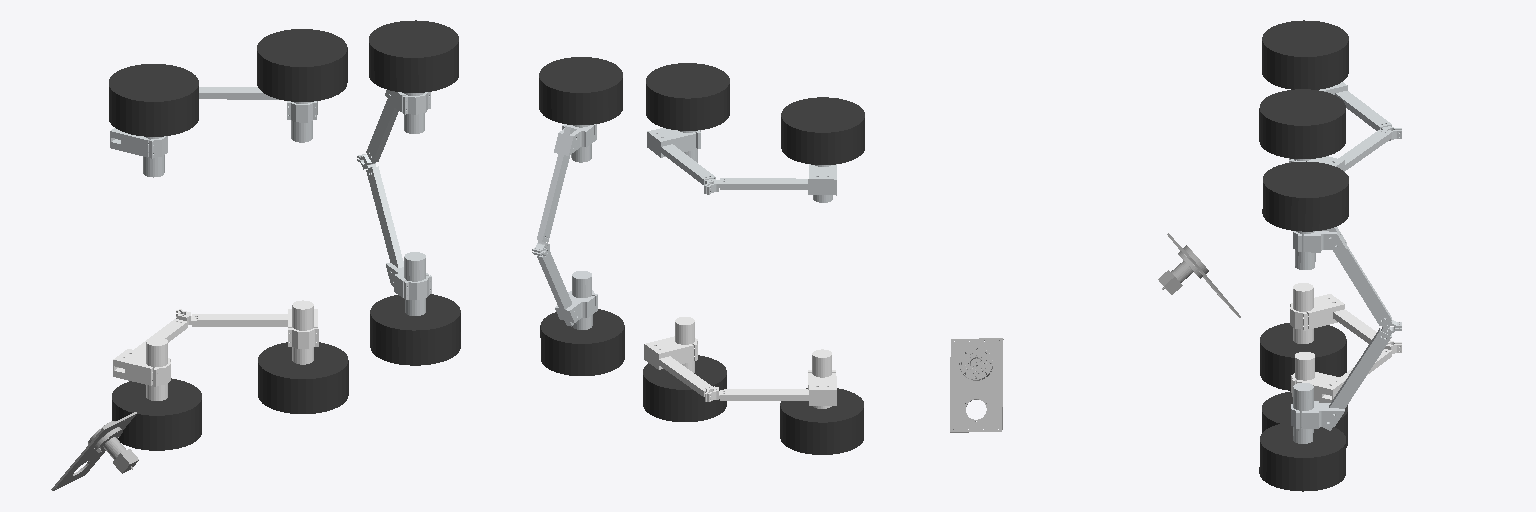
robot.urdf — rover_chassis_1:
<?xml version="1.0" encoding="utf-8"?>
<!-- This URDF was automatically created by SolidWorks to URDF Exporter! Originally created by [author] ([email redacted]) 
     Commit Version: 1.6.0-4-g7f85cfe  Build Version: 1.6.7995.38578
     For more information, please see http://wiki.ros.org/sw_urdf_exporter -->
<robot
  name="rover_chassis_1">
  <link
    name="base_link">
    <inertial>
      <origin
        xyz="0.11092 -0.056158 -0.0017147"
        rpy="0 0 0" />
      <mass
        value="18.16" />
      <inertia
        ixx="0.21011"
        ixy="3.1145E-06"
        ixz="2.7822E-08"
        iyy="0.30833"
        iyz="-5.7892E-06"
        izz="0.15429" />
    </inertial>
    <visual>
      <origin
        xyz="0 0 0"
        rpy="0 0 0" />
      <geometry>
        <mesh
          filename="package://rover_chassis_1/meshes/base_link.STL" />
      </geometry>
      <material
        name="">
        <color
          rgba="0.75294 0.75294 0.75294 1" />
      </material>
    </visual>
    <collision>
      <origin
        xyz="0 0 0"
        rpy="0 0 0" />
      <geometry>
        <mesh
          filename="package://rover_chassis_1/meshes/base_link.STL" />
      </geometry>
    </collision>
  </link>
  <link
    name="link_leftleg">
    <inertial>
      <origin
        xyz="-0.00270298884989145 -0.163722072502178 -0.00766849190879265"
        rpy="0 0 0" />
      <mass
        value="4.3993316672665" />
      <inertia
        ixx="0.00776756822390144"
        ixy="0.000120815726821934"
        ixz="-8.00953090244139E-18"
        iyy="0.0151065650623792"
        iyz="-4.11766808736305E-19"
        izz="0.0183559508070907" />
    </inertial>
    <visual>
      <origin
        xyz="0 0 0"
        rpy="0 0 0" />
      <geometry>
        <mesh
          filename="package://rover_chassis_1/meshes/link_leftleg.STL" />
      </geometry>
      <material
        name="">
        <color
          rgba="0.898039215686275 0.917647058823529 0.929411764705882 1" />
      </material>
    </visual>
    <collision>
      <origin
        xyz="0 0 0"
        rpy="0 0 0" />
      <geometry>
        <mesh
          filename="package://rover_chassis_1/meshes/link_leftleg.STL" />
      </geometry>
    </collision>
  </link>
  <joint
    name="joint_leftleg"
    type="continuous">
    <origin
      xyz="-0.1973 -0.072136 0.33731"
      rpy="0 0 0" />
    <parent
      link="base_link" />
    <child
      link="link_leftleg" />
    <axis
      xyz="0 0 -1" />
  </joint>
  <link
    name="link_frontleft">
    <inertial>
      <origin
        xyz="-2.7756E-17 0 -0.0508"
        rpy="0 0 0" />
      <mass
        value="0.5" />
      <inertia
        ixx="0.02012"
        ixy="5.3993E-19"
        ixz="1.0292E-18"
        iyy="0.02012"
        iyz="3.0057E-18"
        izz="0.032415" />
    </inertial>
    <visual>
      <origin
        xyz="0 0 0"
        rpy="0 0 0" />
      <geometry>
        <mesh
          filename="package://rover_chassis_1/meshes/link_frontleft.STL" />
      </geometry>
      <material
        name="">
        <color
          rgba="0.29804 0.29804 0.29804 1" />
      </material>
    </visual>
    <collision>
      <origin
        xyz="0 0 0"
        rpy="0 0 0" />
      <geometry>
        <mesh
          filename="package://rover_chassis_1/meshes/link_frontleft.STL" />
      </geometry>
    </collision>
  </link>
  <joint
    name="joint_frontleft"
    type="continuous">
    <origin
      xyz="-0.22746 -0.23818 0.16865"
      rpy="0 0 0" />
    <parent
      link="link_leftleg" />
    <child
      link="link_frontleft" />
    <axis
      xyz="0 0 -1" />
  </joint>
  <link
    name="link_midleft">
    <inertial>
      <origin
        xyz="0 0 -0.0508"
        rpy="0 0 0" />
      <mass
        value="0.5" />
      <inertia
        ixx="0.02012"
        ixy="-1.0927E-20"
        ixz="-7.583E-19"
        iyy="0.02012"
        iyz="3.0972E-18"
        izz="0.032415" />
    </inertial>
    <visual>
      <origin
        xyz="0 0 0"
        rpy="0 0 0" />
      <geometry>
        <mesh
          filename="package://rover_chassis_1/meshes/link_midleft.STL" />
      </geometry>
      <material
        name="">
        <color
          rgba="0.29804 0.29804 0.29804 1" />
      </material>
    </visual>
    <collision>
      <origin
        xyz="0 0 0"
        rpy="0 0 0" />
      <geometry>
        <mesh
          filename="package://rover_chassis_1/meshes/link_midleft.STL" />
      </geometry>
    </collision>
  </link>
  <joint
    name="joint_midleft"
    type="continuous">
    <origin
      xyz="0.21944 -0.24559 0.16865"
      rpy="0 0 0" />
    <parent
      link="link_leftleg" />
    <child
      link="link_midleft" />
    <axis
      xyz="0 0 -1" />
  </joint>
  <link
    name="link_backleg">
    <inertial>
      <origin
        xyz="-0.00645819164105932 -0.15937799486982 0.00168177021322908"
        rpy="0 0 0" />
      <mass
        value="3.80037654221698" />
      <inertia
        ixx="0.0185246916858141"
        ixy="-8.5081982783741E-19"
        ixz="8.91166532939147E-18"
        iyy="0.0143956454819237"
        iyz="-8.95899346777433E-05"
        izz="0.00590623155408569" />
    </inertial>
    <visual>
      <origin
        xyz="0 0 0"
        rpy="0 0 0" />
      <geometry>
        <mesh
          filename="package://rover_chassis_1/meshes/link_backleg.STL" />
      </geometry>
      <material
        name="">
        <color
          rgba="0.898039215686275 0.917647058823529 0.929411764705882 1" />
      </material>
    </visual>
    <collision>
      <origin
        xyz="0 0 0"
        rpy="0 0 0" />
      <geometry>
        <mesh
          filename="package://rover_chassis_1/meshes/link_backleg.STL" />
      </geometry>
    </collision>
  </link>
  <joint
    name="joint_backleg"
    type="continuous">
    <origin
      xyz="0.37321 -0.072136 0"
      rpy="0 0 0" />
    <parent
      link="base_link" />
    <child
      link="link_backleg" />
    <axis
      xyz="-1 0 0" />
  </joint>
  <link
    name="link_backleft">
    <inertial>
      <origin
        xyz="2.6645E-15 -0.00053603 -0.050797"
        rpy="0 0 0" />
      <mass
        value="0.5" />
      <inertia
        ixx="0.02012"
        ixy="-1.6899E-19"
        ixz="-9.2825E-18"
        iyy="0.020122"
        iyz="0.00012972"
        izz="0.032413" />
    </inertial>
    <visual>
      <origin
        xyz="0 0 0"
        rpy="0 0 0" />
      <geometry>
        <mesh
          filename="package://rover_chassis_1/meshes/link_backleft.STL" />
      </geometry>
      <material
        name="">
        <color
          rgba="0.29804 0.29804 0.29804 1" />
      </material>
    </visual>
    <collision>
      <origin
        xyz="0 0 0"
        rpy="0 0 0" />
      <geometry>
        <mesh
          filename="package://rover_chassis_1/meshes/link_backleft.STL" />
      </geometry>
    </collision>
  </link>
  <joint
    name="joint_backleft"
    type="continuous">
    <origin
      xyz="-0.00635 -0.23639 0.44739"
      rpy="0 0 0" />
    <parent
      link="link_backleg" />
    <child
      link="link_backleft" />
    <axis
      xyz="0 -0.010552 -0.99994" />
  </joint>
  <link
    name="link_backright">
    <inertial>
      <origin
        xyz="-1.1102E-16 0.00053603 0.050797"
        rpy="0 0 0" />
      <mass
        value="0.5" />
      <inertia
        ixx="0.02012"
        ixy="-5.8E-20"
        ixz="-6.1881E-18"
        iyy="0.020122"
        iyz="0.00012972"
        izz="0.032413" />
    </inertial>
    <visual>
      <origin
        xyz="0 0 0"
        rpy="0 0 0" />
      <geometry>
        <mesh
          filename="package://rover_chassis_1/meshes/link_backright.STL" />
      </geometry>
      <material
        name="">
        <color
          rgba="0.29804 0.29804 0.29804 1" />
      </material>
    </visual>
    <collision>
      <origin
        xyz="0 0 0"
        rpy="0 0 0" />
      <geometry>
        <mesh
          filename="package://rover_chassis_1/meshes/link_backright.STL" />
      </geometry>
    </collision>
  </link>
  <joint
    name="joint_backright"
    type="continuous">
    <origin
      xyz="-0.00635 -0.24578 -0.4423"
      rpy="0 0 0" />
    <parent
      link="link_backleg" />
    <child
      link="link_backright" />
    <axis
      xyz="0 0.010552 0.99994" />
  </joint>
  <link
    name="link_rightleg">
    <inertial>
      <origin
        xyz="0 0 0"
        rpy="0 0 0" />
      <mass
        value="0" />
      <inertia
        ixx="0"
        ixy="0"
        ixz="0"
        iyy="0"
        iyz="0"
        izz="0" />
    </inertial>
    <visual>
      <origin
        xyz="0 0 0"
        rpy="0 0 0" />
      <geometry>
        <mesh
          filename="package://rover_chassis_1/meshes/link_rightleg.STL" />
      </geometry>
      <material
        name="">
        <color
          rgba="1 1 1 1" />
      </material>
    </visual>
    <collision>
      <origin
        xyz="0 0 0"
        rpy="0 0 0" />
      <geometry>
        <mesh
          filename="package://rover_chassis_1/meshes/link_rightleg.STL" />
      </geometry>
    </collision>
  </link>
  <joint
    name="joint_rightleg"
    type="continuous">
    <origin
      xyz="-0.1973 -0.072136 -0.33731"
      rpy="0 0 0" />
    <parent
      link="base_link" />
    <child
      link="link_rightleg" />
    <axis
      xyz="0 0 1" />
  </joint>
  <link
    name="link_frontright">
    <inertial>
      <origin
        xyz="1.3878E-16 -2.2204E-16 0.0508"
        rpy="0 0 0" />
      <mass
        value="0.5" />
      <inertia
        ixx="0.02012"
        ixy="-1.4687E-18"
        ixz="-3.2577E-19"
        iyy="0.02012"
        iyz="-1.2546E-17"
        izz="0.032415" />
    </inertial>
    <visual>
      <origin
        xyz="0 0 0"
        rpy="0 0 0" />
      <geometry>
        <mesh
          filename="package://rover_chassis_1/meshes/link_frontright.STL" />
      </geometry>
      <material
        name="">
        <color
          rgba="0.29804 0.29804 0.29804 1" />
      </material>
    </visual>
    <collision>
      <origin
        xyz="0 0 0"
        rpy="0 0 0" />
      <geometry>
        <mesh
          filename="package://rover_chassis_1/meshes/link_frontright.STL" />
      </geometry>
    </collision>
  </link>
  <joint
    name="joint_frontright"
    type="continuous">
    <origin
      xyz="-0.22091 -0.24426 -0.16865"
      rpy="0 0 0" />
    <parent
      link="link_rightleg" />
    <child
      link="link_frontright" />
    <axis
      xyz="0 0 1" />
  </joint>
  <link
    name="link_midright">
    <inertial>
      <origin
        xyz="-1.1102E-16 -5.5511E-17 0.0508"
        rpy="0 0 0" />
      <mass
        value="0.5" />
      <inertia
        ixx="0.02012"
        ixy="3.9555E-19"
        ixz="-7.2236E-19"
        iyy="0.02012"
        iyz="-1.2774E-17"
        izz="0.032415" />
    </inertial>
    <visual>
      <origin
        xyz="0 0 0"
        rpy="0 0 0" />
      <geometry>
        <mesh
          filename="package://rover_chassis_1/meshes/link_midright.STL" />
      </geometry>
      <material
        name="">
        <color
          rgba="0.29804 0.29804 0.29804 1" />
      </material>
    </visual>
    <collision>
      <origin
        xyz="0 0 0"
        rpy="0 0 0" />
      <geometry>
        <mesh
          filename="package://rover_chassis_1/meshes/link_midright.STL" />
      </geometry>
    </collision>
  </link>
  <joint
    name="joint_midright"
    type="continuous">
    <origin
      xyz="0.22602 -0.23955 -0.16865"
      rpy="0 0 0" />
    <parent
      link="link_rightleg" />
    <child
      link="link_midright" />
    <axis
      xyz="0 0 1" />
  </joint>
</robot>

--- What the picture shows (computed from the rendered views, not written in the file) ---
The picture shows the robot from 3 angles, left to right: view 1: azimuth 30°, elevation 25°; view 2: azimuth 150°, elevation 25°; view 3: azimuth 270°, elevation 25°; orthographic projection.
Robot: rover_chassis_1 — 10 links, 9 joints (9 continuous); root link base_link; default pose: all joints at 0.
Links seen in each view (by area): view 1: link_rightleg, link_midleft, link_frontleft, link_backleft, link_backleg, link_backright, link_midright, link_frontright, link_leftleg, base_link; view 2: link_rightleg, link_backleft, link_frontleft, link_midleft, link_backleg, base_link, link_backright, link_frontright, link_leftleg, link_midright; view 3: link_backleg, link_midleft, link_frontleft, link_backleft, link_backright, link_rightleg, link_frontright, link_leftleg, base_link, link_midright.
Link boxes in pixels (x1=…): link_rightleg: x1=113, y1=300, x2=318, y2=400; link_midleft: x1=257, y1=29, x2=347, y2=101; link_frontleft: x1=109, y1=64, x2=198, y2=136; link_backleft: x1=369, y1=20, x2=458, y2=92; link_backleg: x1=357, y1=90, x2=431, y2=315; link_backright: x1=370, y1=294, x2=460, y2=365; link_midright: x1=258, y1=342, x2=348, y2=413; link_frontright: x1=112, y1=378, x2=201, y2=450; link_leftleg: x1=110, y1=87, x2=317, y2=177; base_link: x1=51, y1=412, x2=138, y2=490; link_rightleg: x1=644, y1=317, x2=836, y2=408; link_backleft: x1=539, y1=57, x2=622, y2=124; link_frontleft: x1=781, y1=97, x2=864, y2=164; link_midleft: x1=646, y1=63, x2=729, y2=130; link_backleg: x1=532, y1=124, x2=597, y2=329; base_link: x1=950, y1=338, x2=1003, y2=432; link_backright: x1=540, y1=309, x2=624, y2=375; link_frontright: x1=780, y1=388, x2=863, y2=454; link_leftleg: x1=647, y1=128, x2=836, y2=202; link_midright: x1=643, y1=355, x2=726, y2=421; link_backleg: x1=1291, y1=227, x2=1401, y2=443; link_midleft: x1=1259, y1=89, x2=1345, y2=158; link_frontleft: x1=1262, y1=20, x2=1348, y2=89; link_backleft: x1=1262, y1=161, x2=1348, y2=231; link_backright: x1=1259, y1=422, x2=1345, y2=491; link_rightleg: x1=1290, y1=283, x2=1401, y2=402; link_frontright: x1=1260, y1=323, x2=1346, y2=390; link_leftleg: x1=1289, y1=82, x2=1401, y2=171; base_link: x1=1158, y1=233, x2=1240, y2=317; link_midright: x1=1262, y1=391, x2=1347, y2=447.
Size in the robot's own frame: 1.36 by 0.6726 by 1.01 metres.
Meshes: 10 distinct files referenced, 10 mesh visuals loaded (10 binary STL).